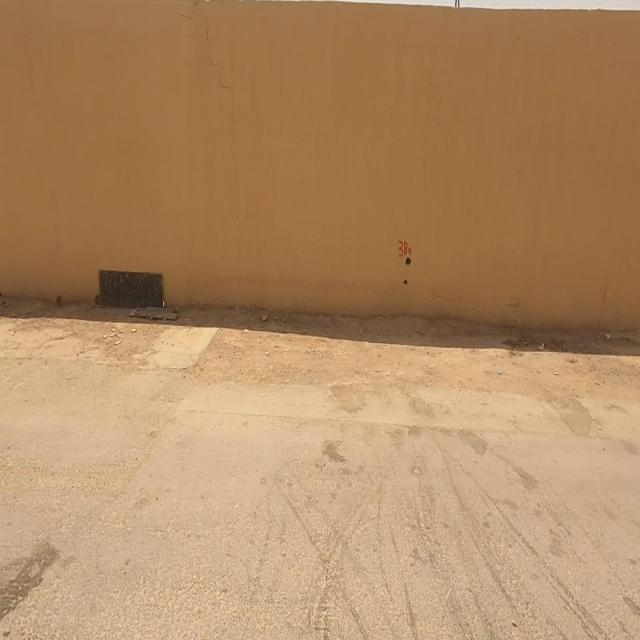Graffiti: (398, 236, 414, 260)
